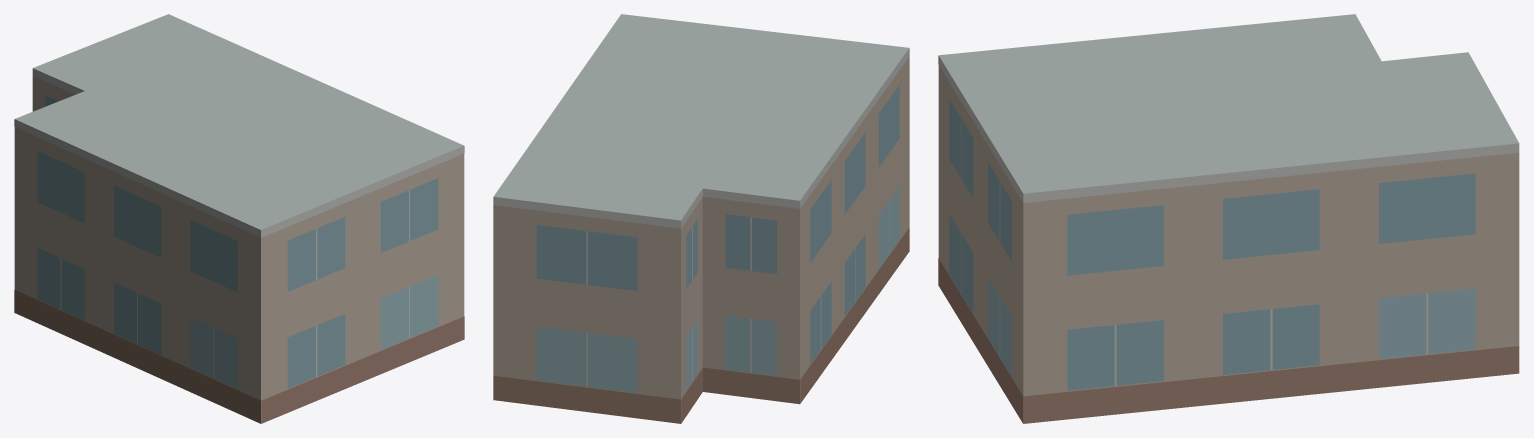
Rendered from survey-upis-32708686.glb.
3 views of the same model, side by side, from view 1: azimuth 30°, elevation 25°; view 2: azimuth 150°, elevation 25°; view 3: azimuth 270°, elevation 25° (orthographic). The views are drawn at different scales.
Visible parts, largest first — view 1: survey-upis-32708686.tmp; view 2: survey-upis-32708686.tmp; view 3: survey-upis-32708686.tmp.
Boxes of the visible parts, x1,y1,x2,y2 form: survey-upis-32708686.tmp: (14,14,464,423); survey-upis-32708686.tmp: (493,14,909,423); survey-upis-32708686.tmp: (938,14,1519,423).
Size of the model in its own units: 10.23 by 6.1 by 13.97.
